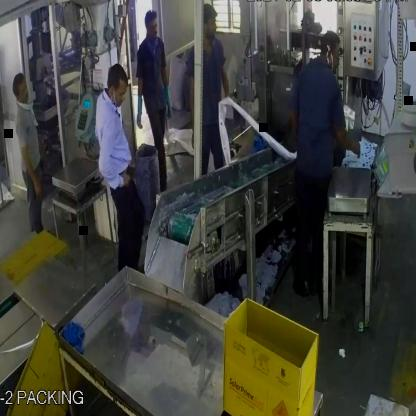glove: (157, 66, 176, 123), (132, 80, 148, 137)
no_glove: (94, 118, 127, 199), (17, 126, 48, 202), (326, 111, 366, 165), (189, 66, 199, 152), (218, 59, 232, 109)
